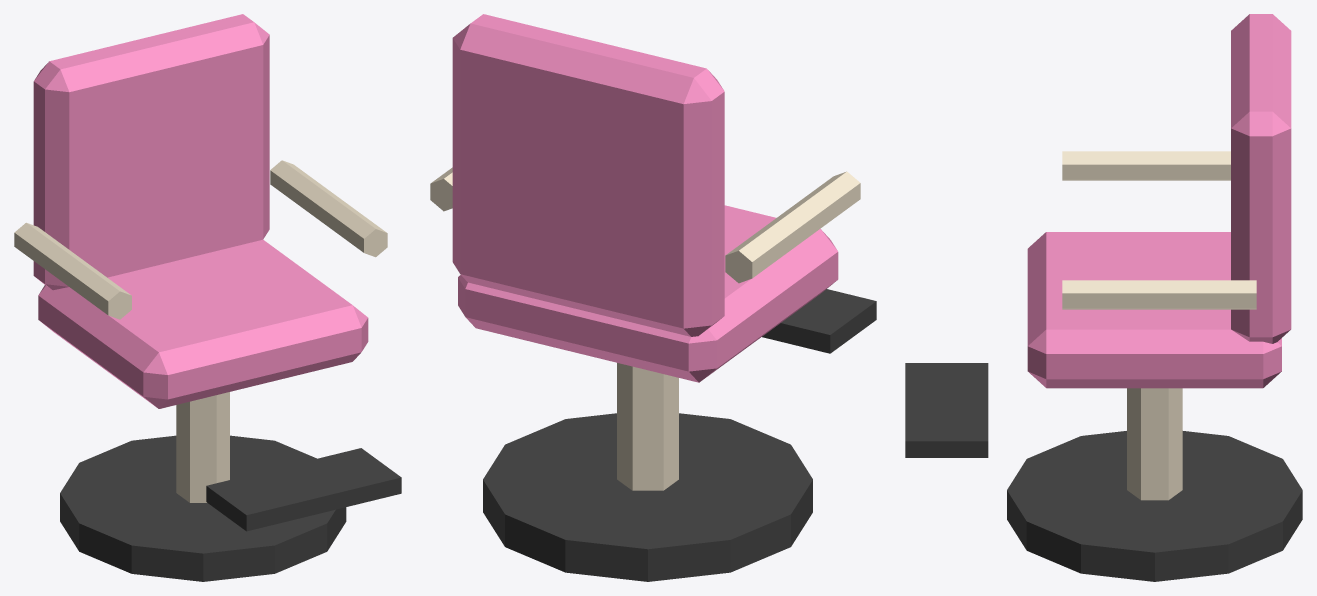
3 renders of one model, left to right at view 1: azimuth 30°, elevation 25°; view 2: azimuth 150°, elevation 25°; view 3: azimuth 270°, elevation 25°, orthographic. The views are drawn at different scales.
Parts seen in each view (by area): view 1: Back, Seat, Base, Footrest, Hydraulic post, Arm.001, Arm; view 2: Back, Base, Seat, Hydraulic post, Arm, Footrest, Arm.001; view 3: Base, Seat, Back, Footrest, Hydraulic post, Arm.001, Arm.
Boxes of the visible parts, x1=… form: Back: x1=33, y1=14, x2=269, y2=290; Seat: x1=38, y1=239, x2=368, y2=408; Base: x1=60, y1=435, x2=346, y2=581; Footrest: x1=206, y1=448, x2=401, y2=531; Hydraulic post: x1=176, y1=392, x2=229, y2=502; Arm.001: x1=270, y1=160, x2=387, y2=257; Arm: x1=14, y1=222, x2=131, y2=319; Back: x1=452, y1=14, x2=724, y2=336; Base: x1=483, y1=413, x2=812, y2=581; Seat: x1=458, y1=205, x2=838, y2=382; Hydraulic post: x1=617, y1=363, x2=678, y2=490; Arm: x1=725, y1=171, x2=860, y2=283; Footrest: x1=762, y1=289, x2=876, y2=353; Arm.001: x1=430, y1=167, x2=452, y2=211; Base: x1=1007, y1=431, x2=1302, y2=581; Seat: x1=1027, y1=232, x2=1281, y2=388; Back: x1=1231, y1=14, x2=1291, y2=343; Footrest: x1=905, y1=363, x2=988, y2=457; Hydraulic post: x1=1127, y1=388, x2=1182, y2=500; Arm.001: x1=1062, y1=280, x2=1256, y2=309; Arm: x1=1062, y1=151, x2=1230, y2=180.
Bounding box in the file's own units: 0.7206 × 1.09 × 0.86.
1 material, 1 textured.
